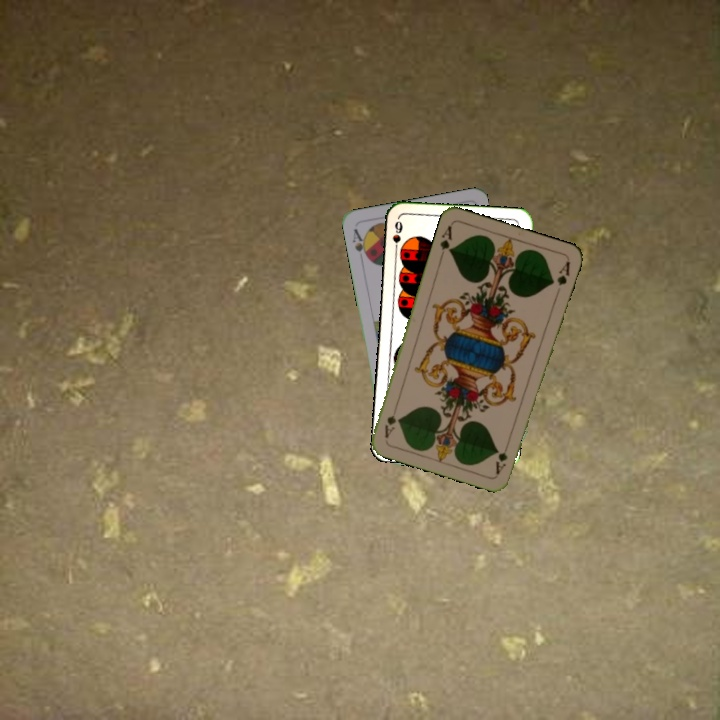GA: (492, 437, 513, 476), (436, 222, 455, 260)
S9: (389, 217, 405, 257)
SA: (349, 225, 371, 264)
